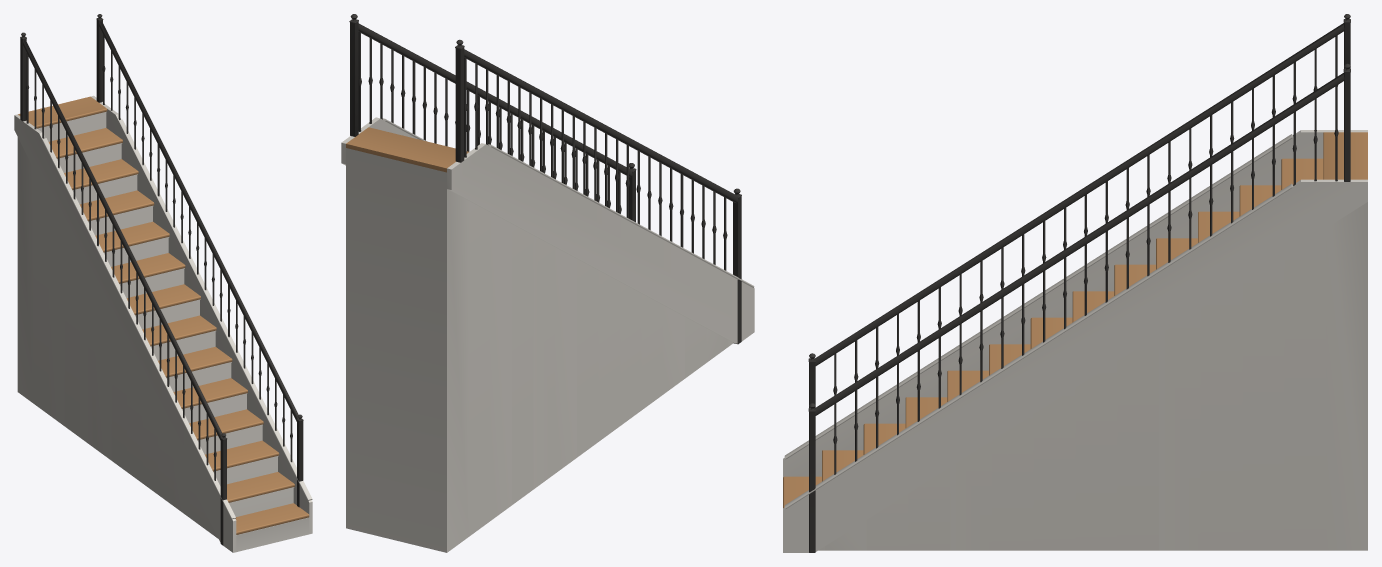
Rendered from stairs.glb.
3 views of the same model, side by side, from view 1: azimuth 30°, elevation 25°; view 2: azimuth 150°, elevation 25°; view 3: azimuth 270°, elevation 25° (orthographic). The views are drawn at different scales.
Visible parts, largest first — view 1: stairs; view 2: stairs; view 3: stairs.
Boxes of the visible parts, x1=… form: stairs: x1=14, y1=14, x2=312, y2=552; stairs: x1=341, y1=14, x2=754, y2=552; stairs: x1=783, y1=14, x2=1367, y2=552.
Bounding box in the file's own units: 0.855 × 3.68 × 4.
